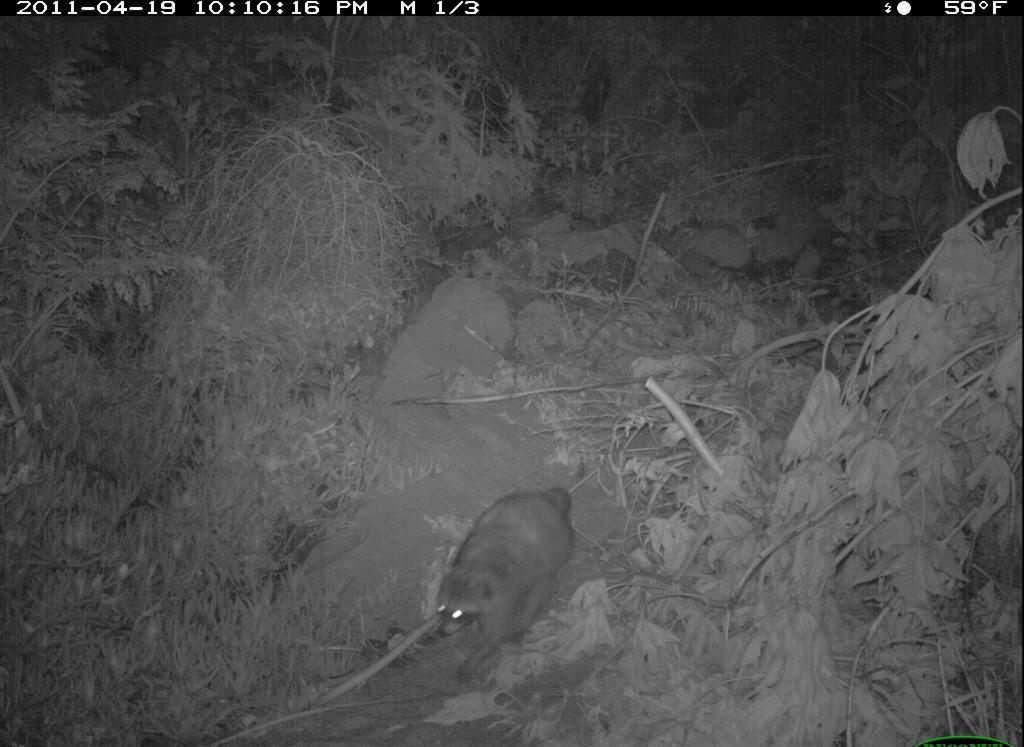raccoon: (428, 470, 593, 694)
